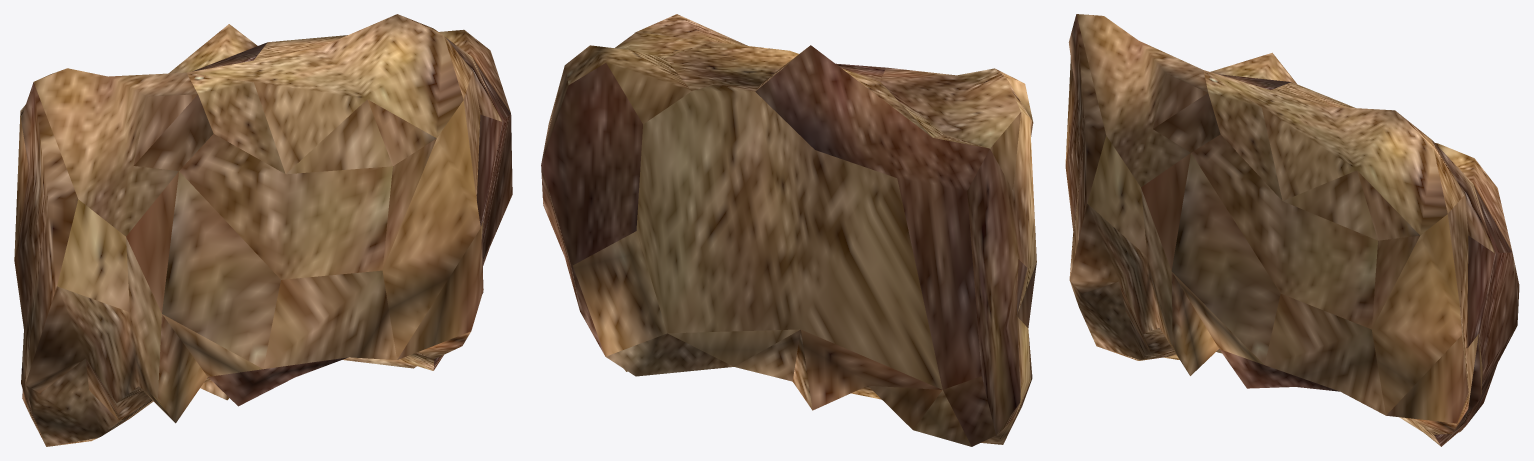
Rendered from BackRock.obj.
3 views of the same model, side by side, from view 1: azimuth 30°, elevation 25°; view 2: azimuth 150°, elevation 25°; view 3: azimuth 330°, elevation 25° (orthographic). The views are drawn at different scales.
Visible parts, largest first — view 1: Rock07; view 2: Rock07; view 3: Rock07.
Boxes of the visible parts, bbox=[...] form: Rock07: bbox=[14, 14, 512, 446]; Rock07: bbox=[541, 14, 1036, 446]; Rock07: bbox=[1065, 14, 1519, 446].
Size of the model in its own units: 653 by 495 by 58.89.
1 material, 1 textured.
